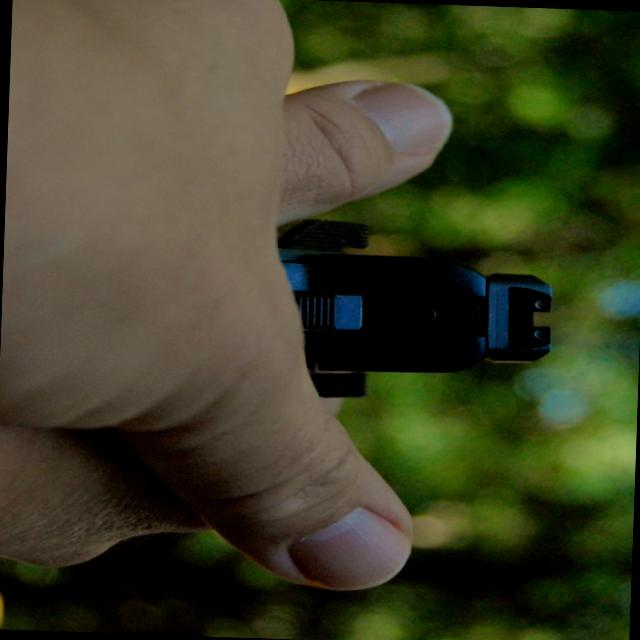handgun: (257, 212, 578, 426)
